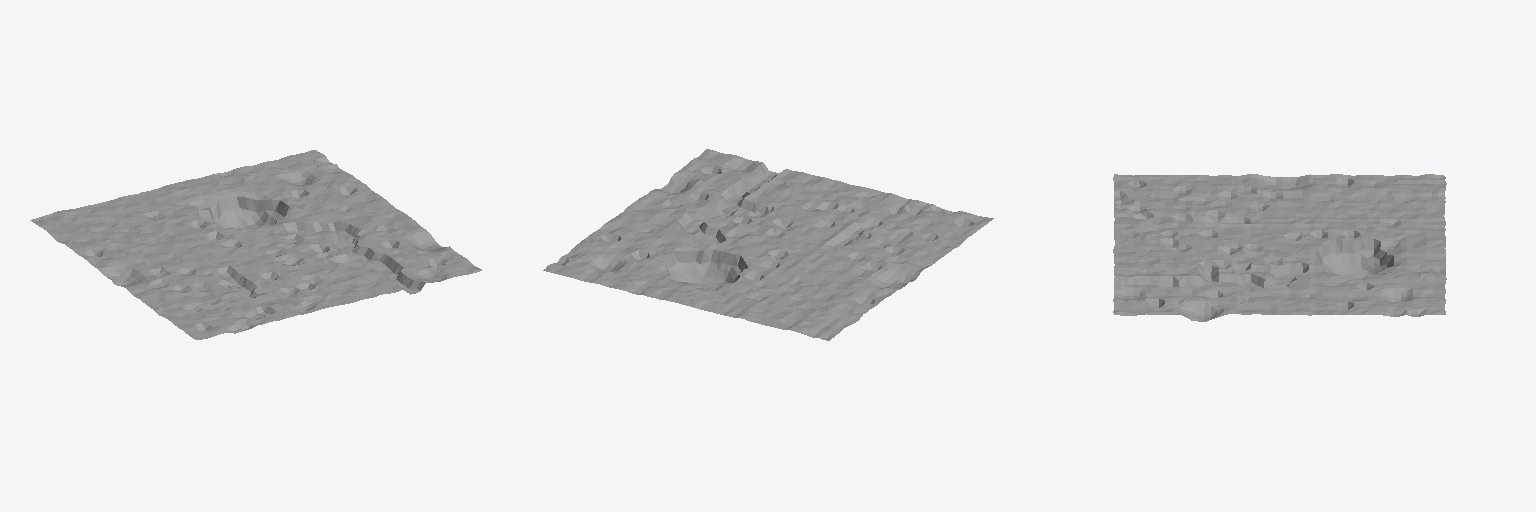
File: marsland.obj
3 views of the same model, side by side, from view 1: azimuth 30°, elevation 25°; view 2: azimuth 150°, elevation 25°; view 3: azimuth 270°, elevation 25° (orthographic).
Parts seen in each view (by area): view 1: Plane; view 2: Plane; view 3: Plane.
Boxes of the visible parts, x1,y1,x2,y2 form: Plane: [30, 150, 481, 339]; Plane: [543, 149, 993, 340]; Plane: [1113, 174, 1446, 321].
Bounding box in the file's own units: 103 × 8.84 × 103.